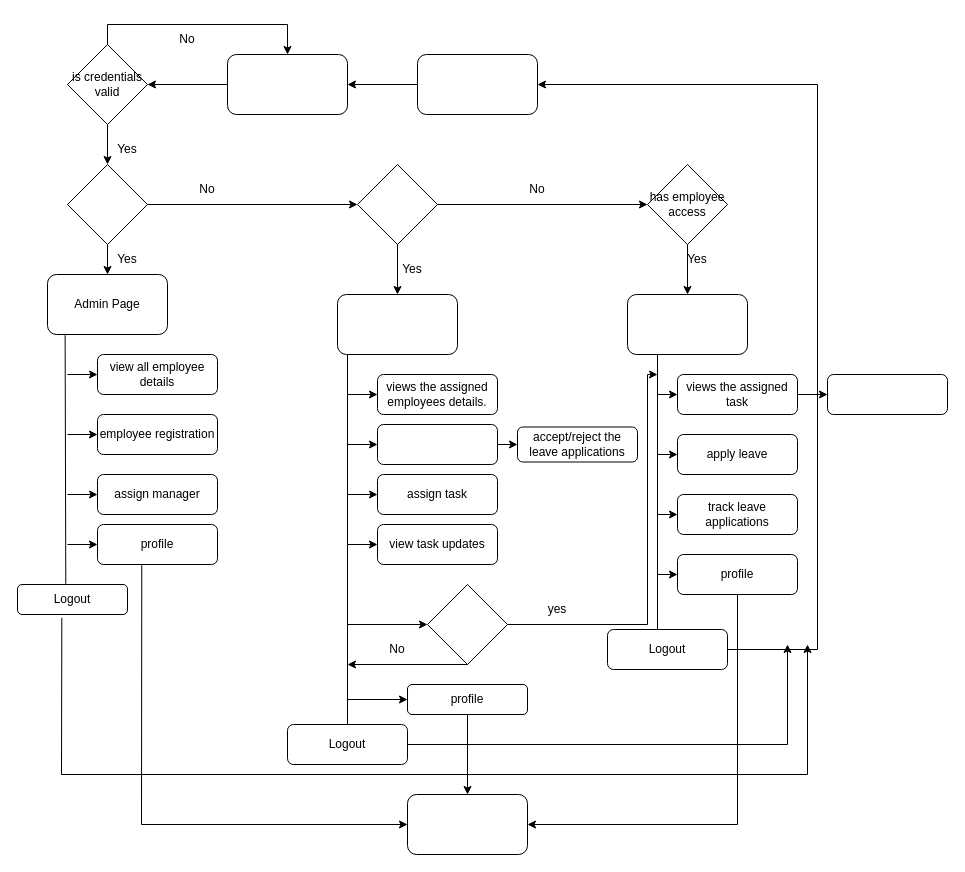
This 965x872 diagram has some shape labels left out. Each missing label, with the centre of its shape:
"Employee Page" goes at (x=687, y=324).
"has Admin access" goes at (x=107, y=204).
"has manager access" goes at (x=397, y=204).
"Home Page" goes at (x=477, y=84).
"is manager has a manager" goes at (x=467, y=624).
"Login" goes at (x=287, y=84).
"Manager Page" goes at (x=397, y=324).
"profile page" goes at (x=467, y=824).
"Update task status" goes at (x=887, y=394).
"view leave applications" goes at (x=437, y=444).
